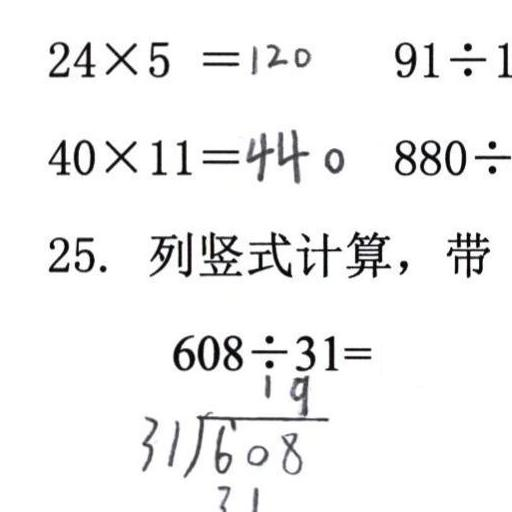ans: (240, 123, 345, 184), (244, 36, 310, 74)
